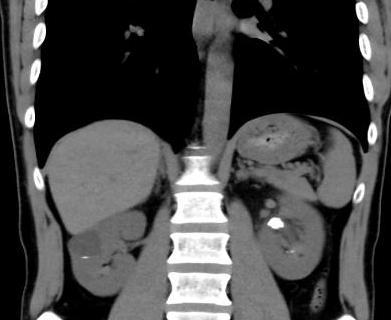Tas_Var: (267, 215, 285, 229), (82, 254, 92, 260), (290, 248, 296, 254), (284, 250, 290, 253)
